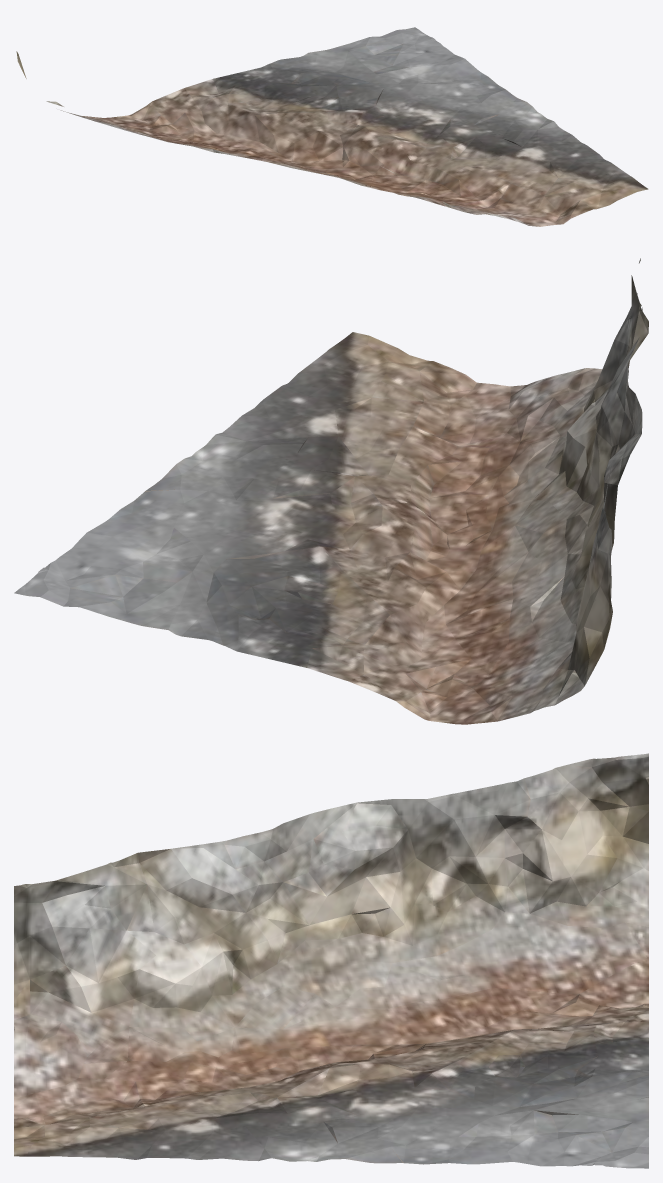
3 views of the same model, one above another, from view 1: azimuth 30°, elevation 25°; view 2: azimuth 150°, elevation 25°; view 3: azimuth 270°, elevation 25° (orthographic). The views are drawn at different scales.
Size of the model in its own units: 2.94 by 0.9029 by 2.95.
3 materials, 3 textured.
